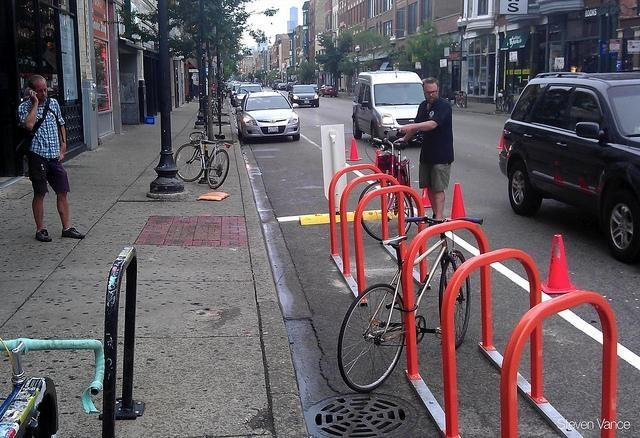bicycle: (332, 219, 480, 379), (360, 134, 412, 242), (174, 130, 233, 190), (454, 90, 468, 108)
car: (501, 72, 638, 263), (352, 71, 425, 143), (238, 92, 302, 142), (287, 84, 320, 110), (233, 83, 263, 106), (318, 84, 339, 96), (228, 85, 240, 99), (285, 82, 296, 91), (310, 84, 318, 92), (278, 84, 287, 90), (228, 82, 235, 89)
truck: (352, 68, 424, 140)
